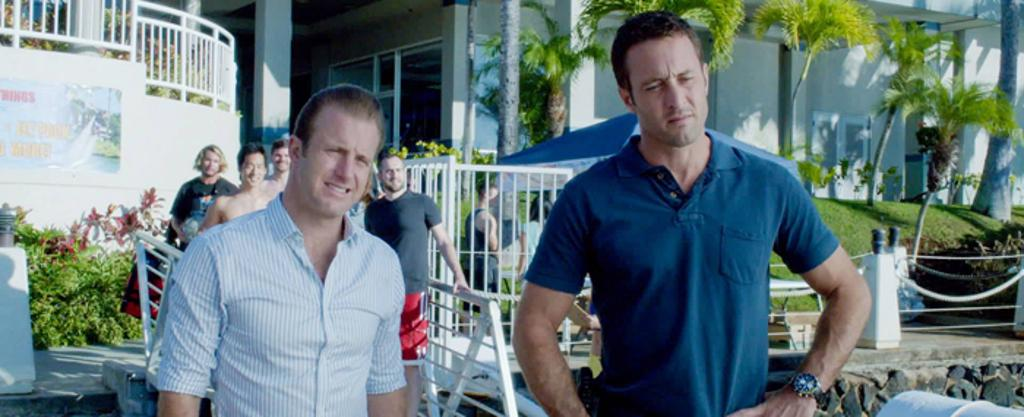face: (301, 105, 379, 216), (630, 41, 709, 145), (380, 159, 403, 191), (242, 155, 265, 186), (271, 148, 292, 170), (201, 152, 219, 175)
